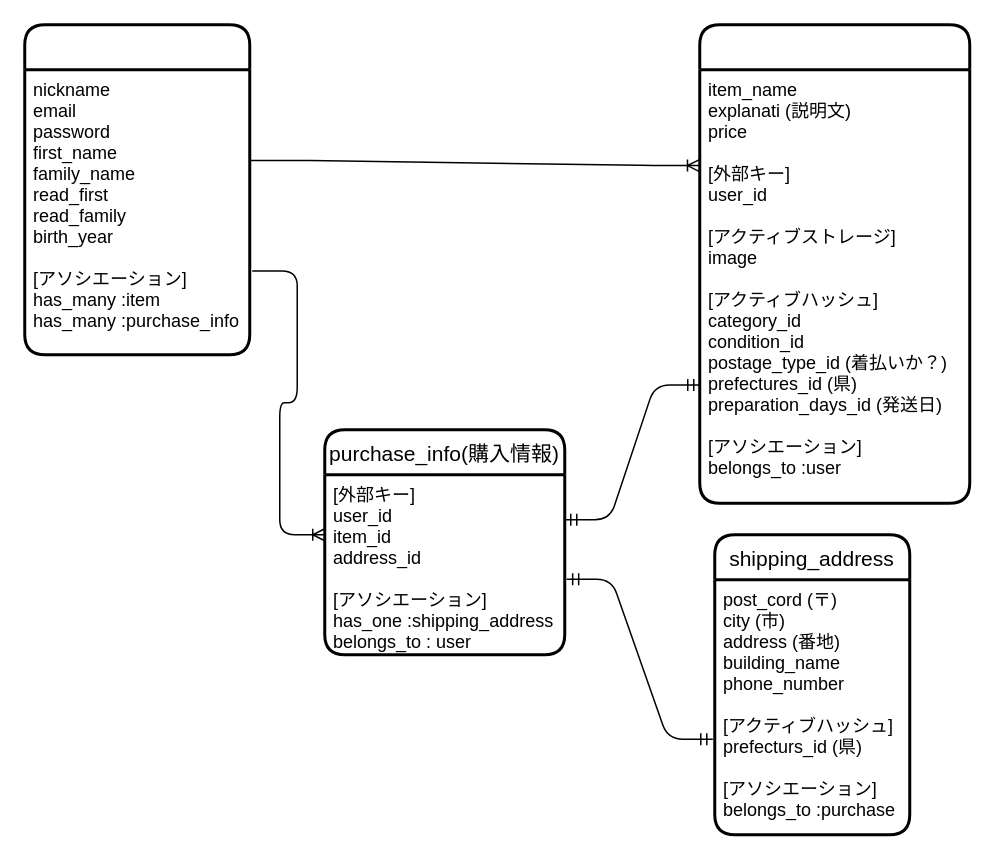
This 995x860 diagram has some shape labels left out. Each missing label, with the box of its shape:
items: (698, 22, 970, 504)
users: (22, 22, 250, 356)
